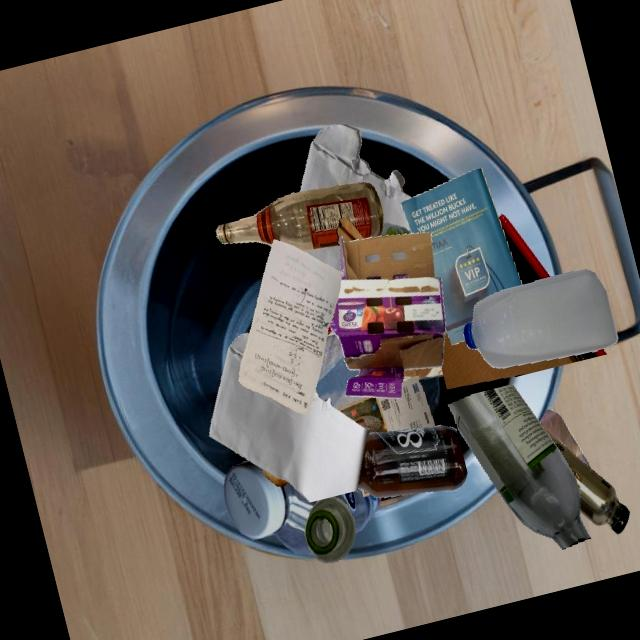biowaste: (261, 468, 288, 486)
cardboard: (329, 232, 445, 398), (441, 327, 606, 389), (498, 213, 550, 284)
glass: (447, 383, 590, 549), (216, 182, 383, 251), (543, 427, 629, 534), (357, 425, 468, 497), (304, 496, 355, 562)
paper: (209, 332, 369, 502), (400, 168, 522, 345), (238, 239, 341, 413), (299, 123, 385, 195), (336, 376, 435, 434), (340, 195, 389, 270), (539, 409, 591, 468), (336, 217, 364, 246), (403, 366, 443, 381), (335, 270, 341, 334), (326, 325, 335, 336)
plastic: (463, 268, 618, 368), (223, 460, 317, 553), (380, 222, 411, 235)
